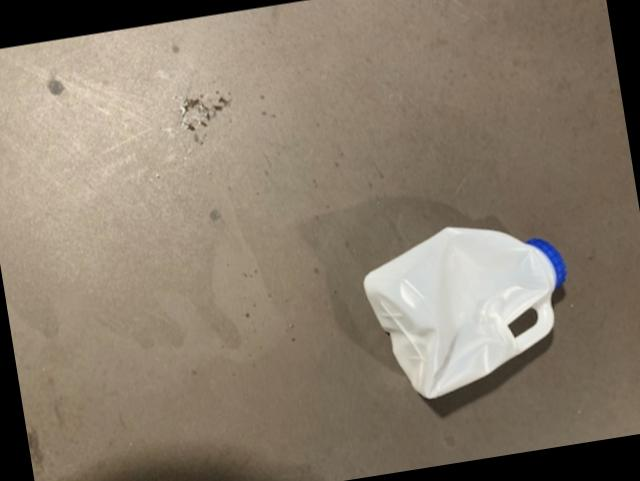plastic: (362, 229, 564, 399)
